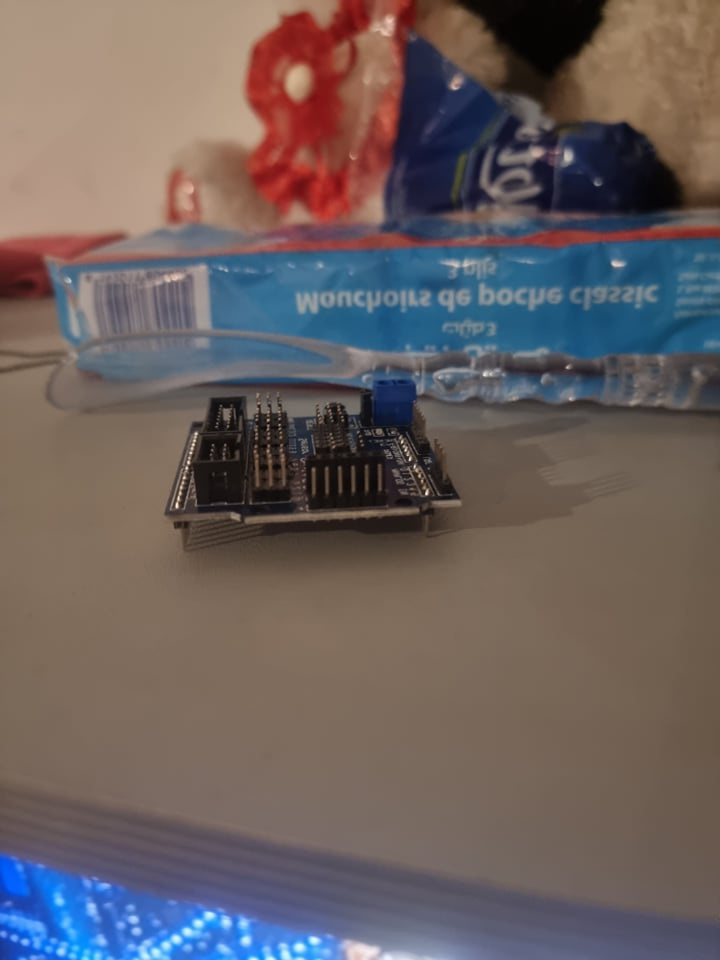5V EXPANSION: (161, 377, 462, 525)
